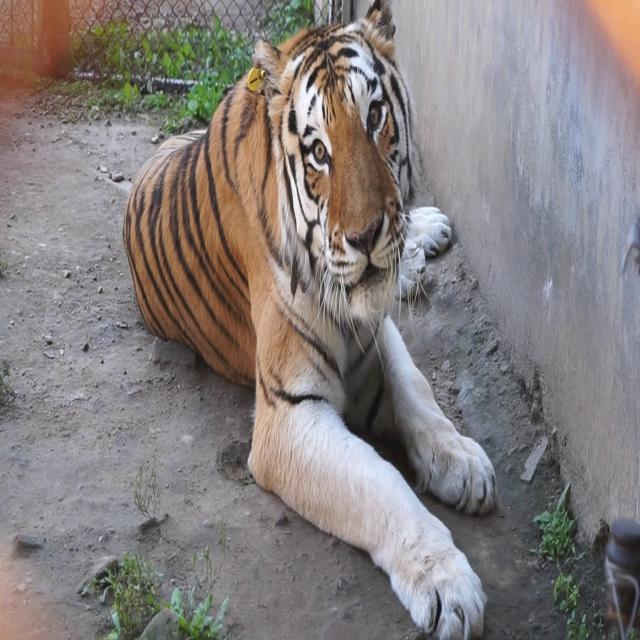Tiger: (106, 2, 492, 640)
